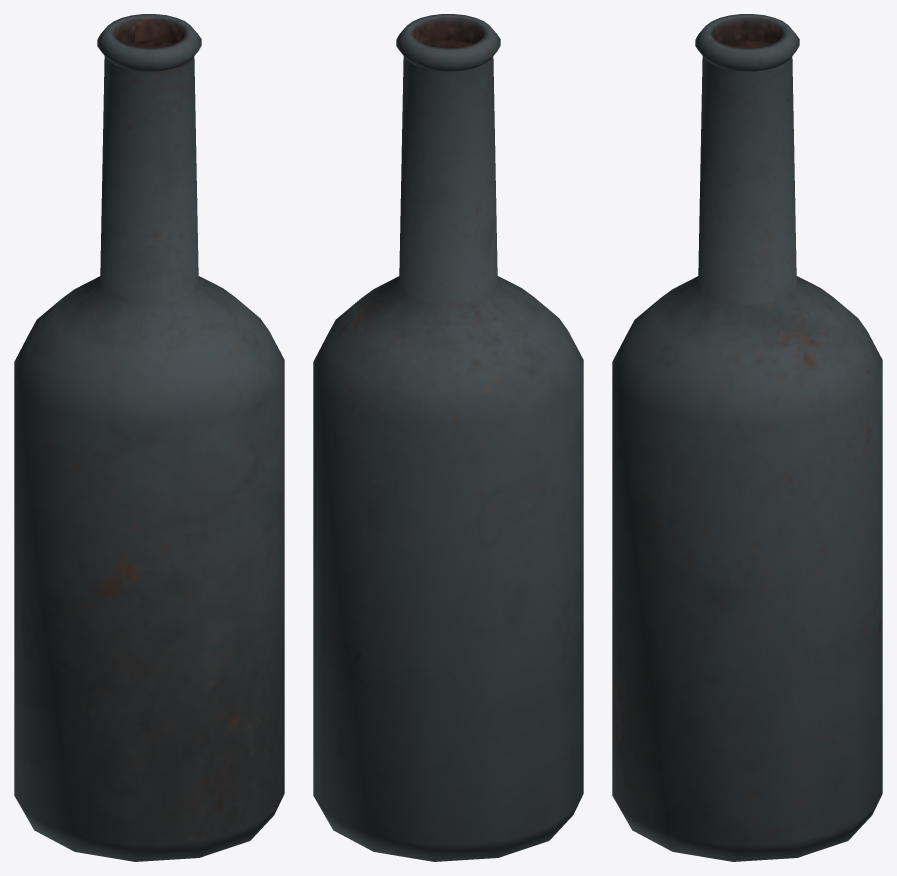
File: sb_obj_indoor001_OldKitchen_bin.fbx
3 renders of one model, left to right at view 1: azimuth 30°, elevation 25°; view 2: azimuth 150°, elevation 25°; view 3: azimuth 270°, elevation 25°, orthographic.
Visible parts, largest first — view 1: sb_obj_indoor001_OldKitchen_bin; view 2: sb_obj_indoor001_OldKitchen_bin; view 3: sb_obj_indoor001_OldKitchen_bin.
Part boxes in pixels (<box>): sb_obj_indoor001_OldKitchen_bin: <box>14,14,284,861</box>; sb_obj_indoor001_OldKitchen_bin: <box>313,14,583,861</box>; sb_obj_indoor001_OldKitchen_bin: <box>612,14,882,861</box>.
Bounding box in the file's own units: 0.1231 × 0.3899 × 0.1231.
